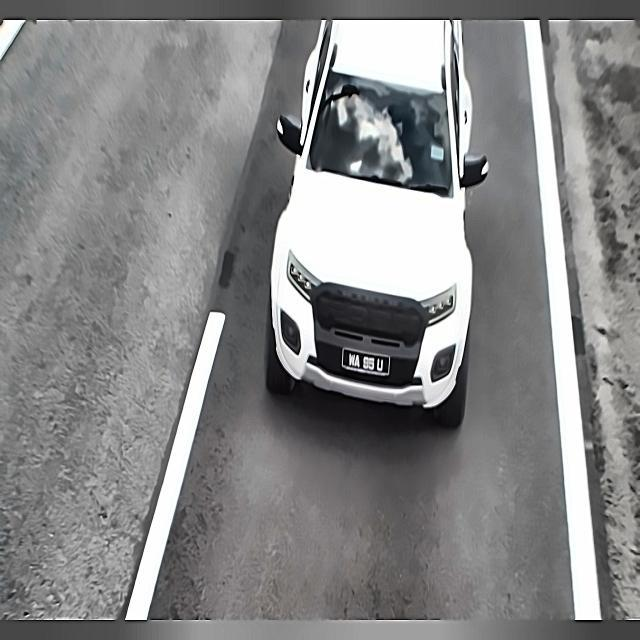car: (338, 336, 395, 383)
